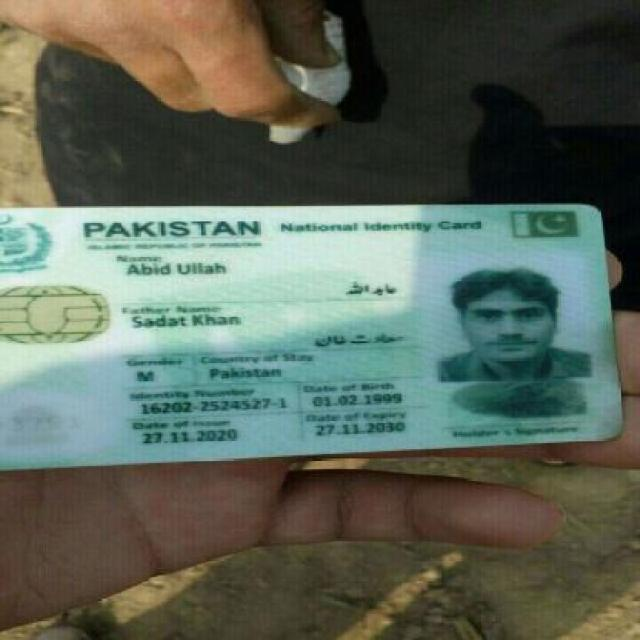Front: (3, 202, 625, 456)
